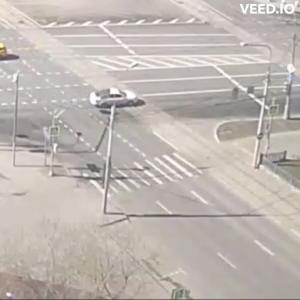car: (91, 89, 145, 111)
